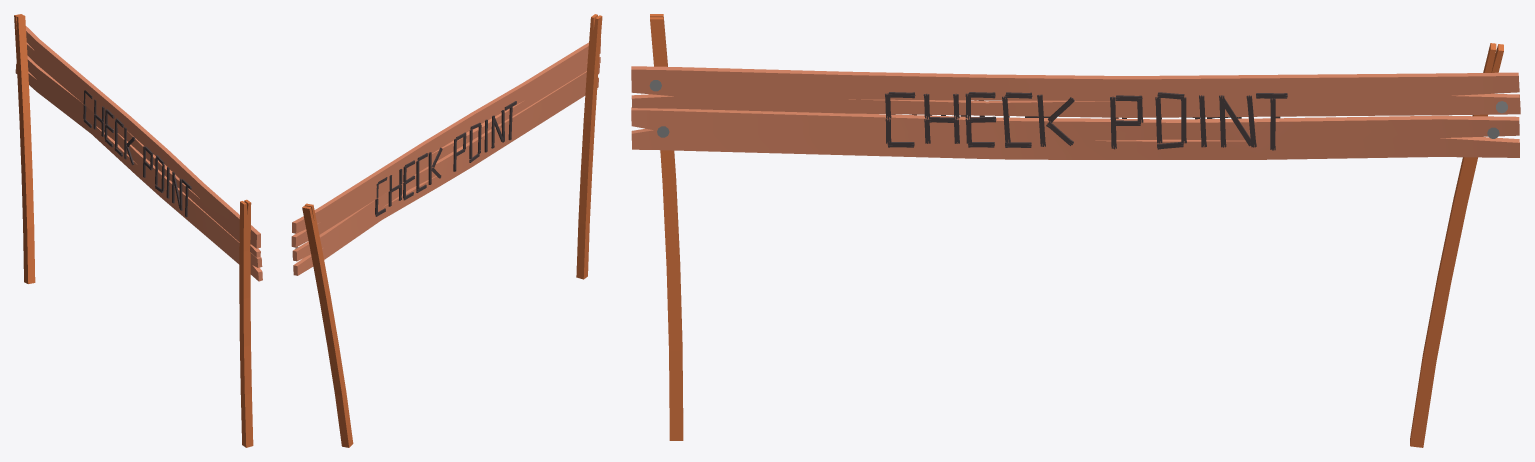
The model's file is CheckPoint.fbx.
3 renders of one model, left to right at view 1: azimuth 30°, elevation 25°; view 2: azimuth 150°, elevation 25°; view 3: azimuth 270°, elevation 25°, orthographic. The views are drawn at different scales.
Parts seen in each view (by area): view 1: Checkpoint; view 2: Checkpoint; view 3: Checkpoint.
Part boxes in pixels (<box>): Checkpoint: <box>14,14,262,447</box>; Checkpoint: <box>291,14,602,447</box>; Checkpoint: <box>631,14,1520,447</box>.
Bounding box in the file's own units: 229 × 1286 × 2477.
